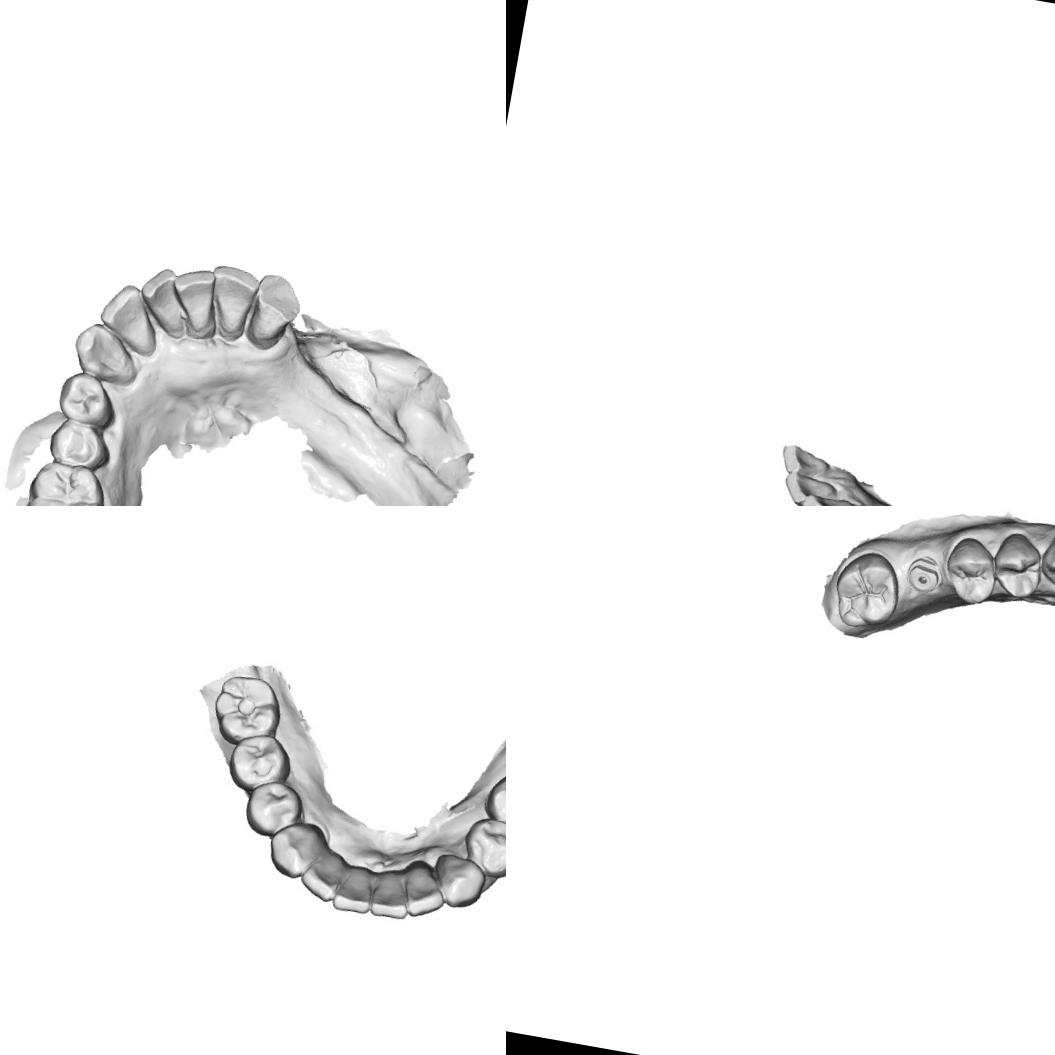canine: (242, 267, 306, 352), (65, 317, 141, 386), (263, 814, 328, 880), (426, 850, 489, 912), (1038, 523, 1055, 598)
implant: (898, 547, 956, 606)
incisor: (92, 278, 170, 362), (202, 260, 264, 340), (130, 262, 193, 339), (162, 262, 221, 336), (399, 860, 451, 924), (329, 856, 381, 917), (294, 845, 347, 904), (367, 867, 418, 923), (772, 438, 836, 482), (777, 466, 835, 506), (796, 489, 852, 506)
molar: (825, 542, 906, 634), (206, 667, 286, 750), (14, 455, 121, 506)
premolar: (938, 530, 1004, 611), (984, 528, 1050, 606), (39, 413, 120, 476), (223, 728, 295, 796), (238, 774, 308, 842), (49, 368, 122, 430), (457, 811, 506, 882), (476, 766, 506, 840)
